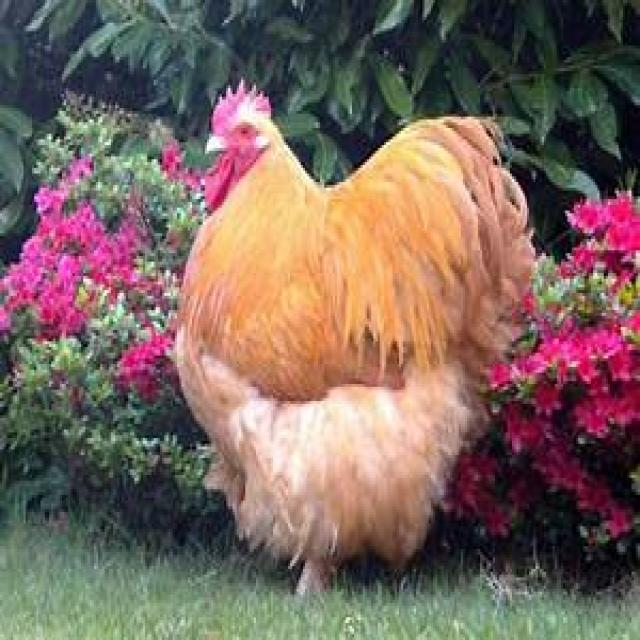hen: (176, 92, 535, 592)
